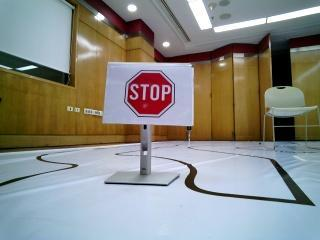stop: (116, 67, 185, 125)
